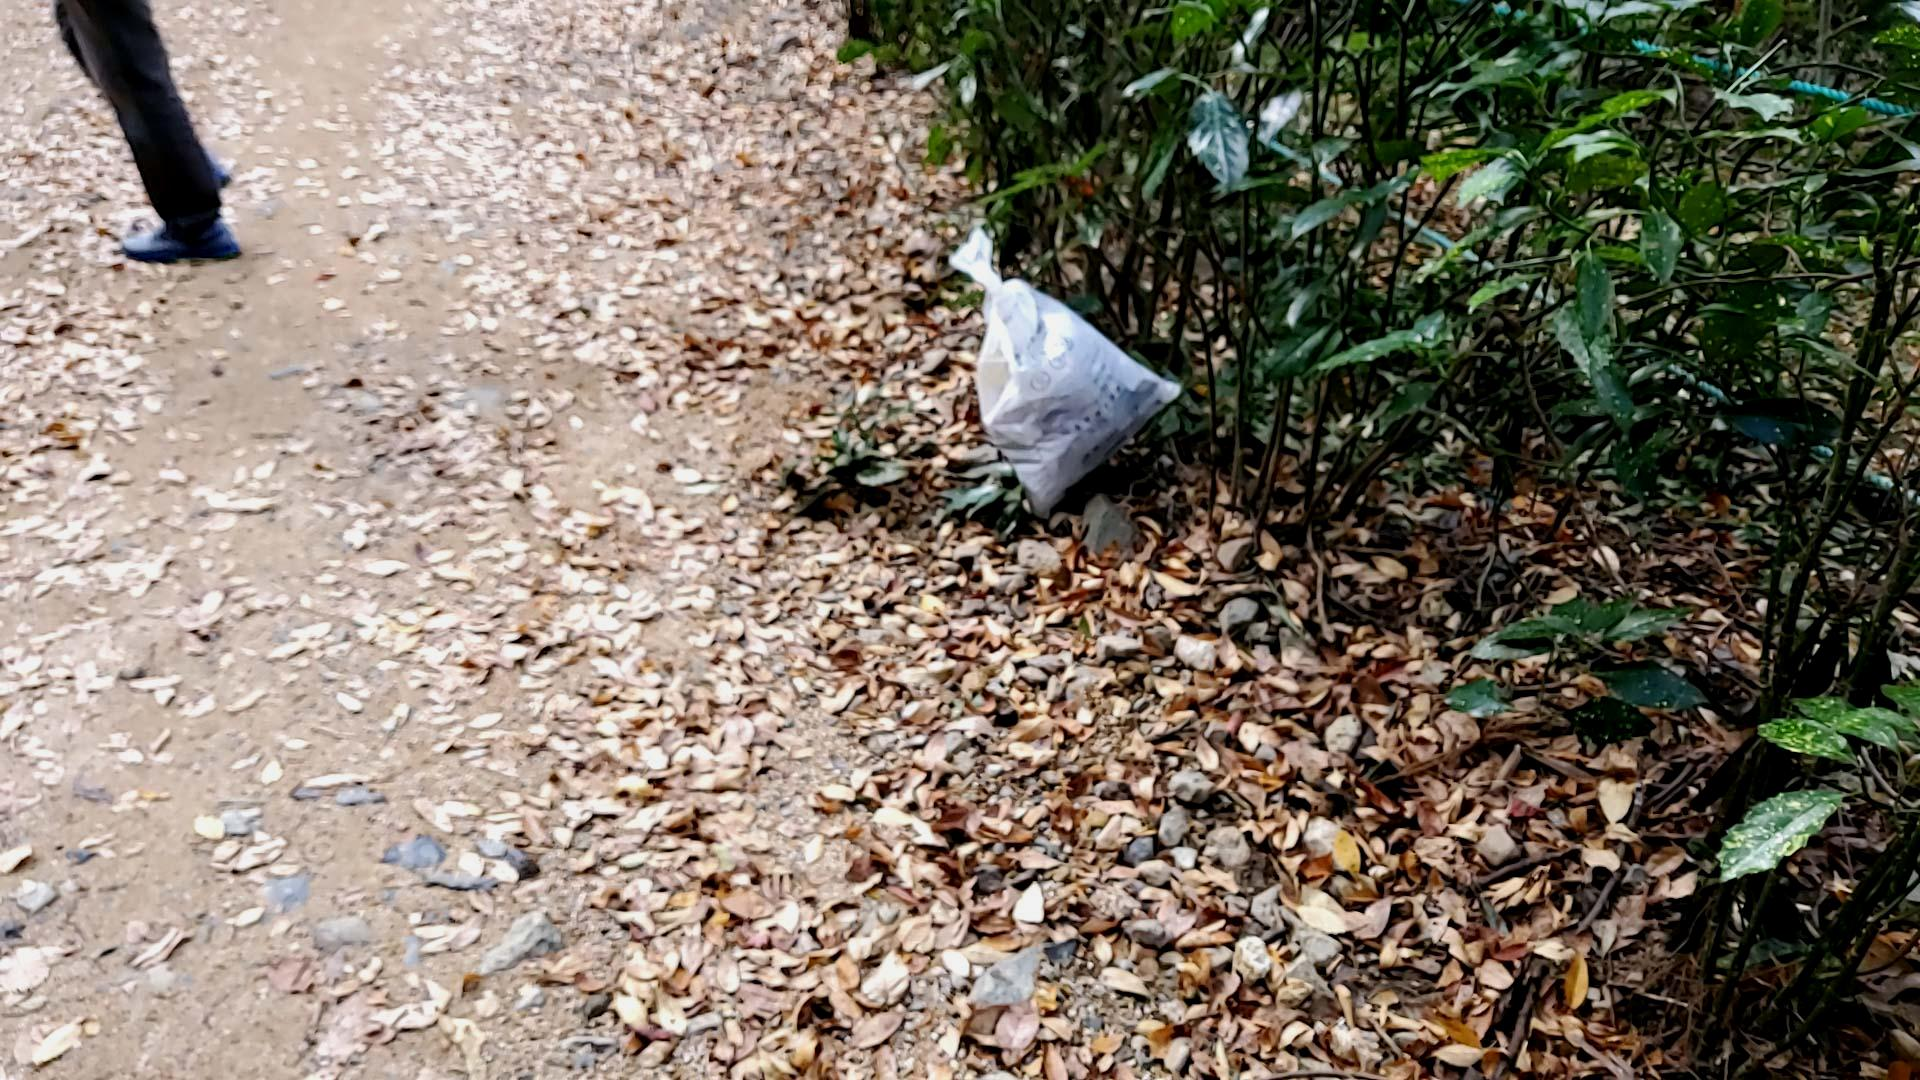white_bag: (928, 222, 1201, 516)
